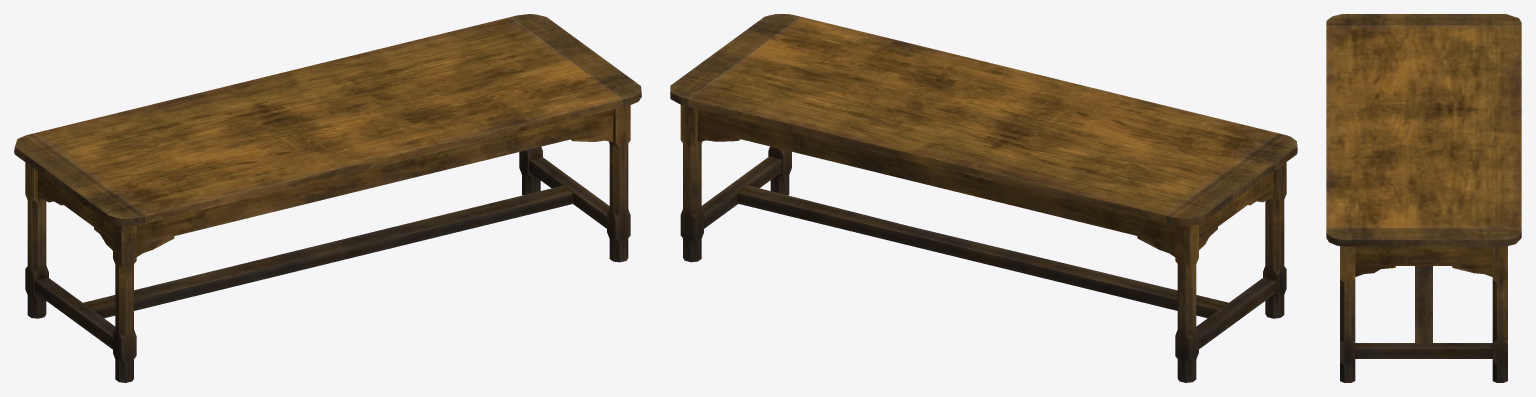
File: table.glb
The picture shows the model from 3 angles, left to right: view 1: azimuth 30°, elevation 25°; view 2: azimuth 150°, elevation 25°; view 3: azimuth 270°, elevation 25°; orthographic projection. The views are drawn at different scales.
Visible parts, largest first — view 1: WoodenTable_01; view 2: WoodenTable_01; view 3: WoodenTable_01.
Part boxes in pixels (<box>): WoodenTable_01: <box>14,14,641,382</box>; WoodenTable_01: <box>670,14,1297,382</box>; WoodenTable_01: <box>1326,14,1521,382</box>.
Bounding box in the file's own units: 1.79 × 0.5489 × 0.6571.
1 material, 1 textured.
